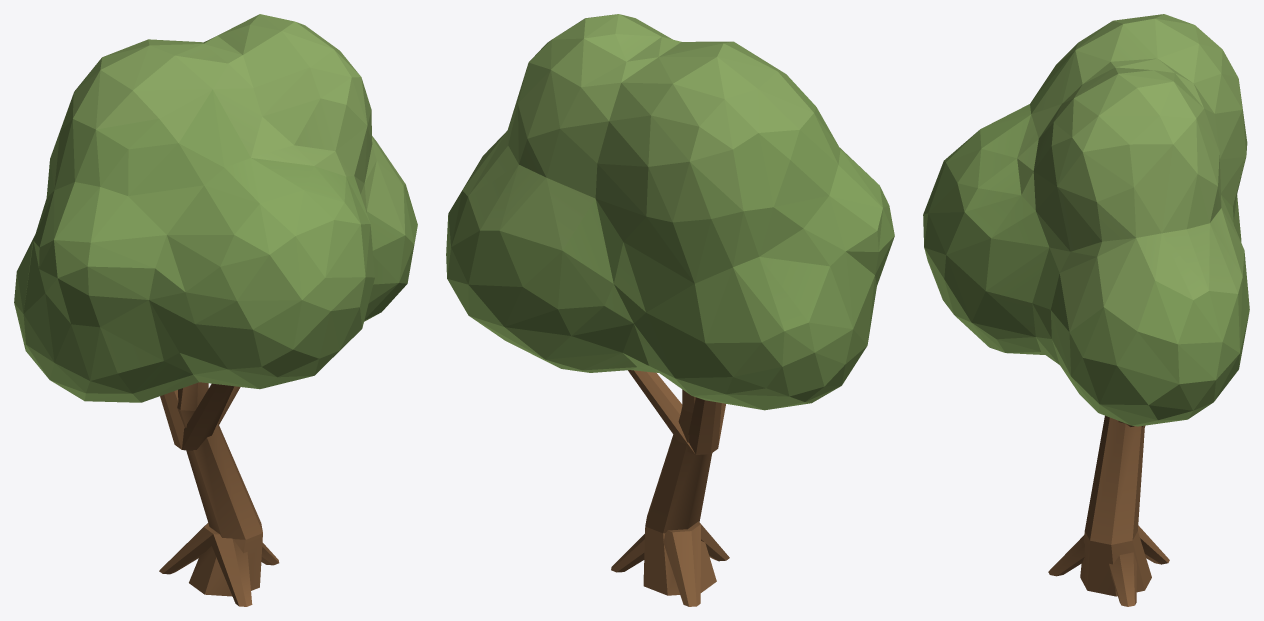
Rendered from grove-sculpt-0.glb.
The picture shows the model from 3 angles, left to right: view 1: azimuth 30°, elevation 25°; view 2: azimuth 150°, elevation 25°; view 3: azimuth 270°, elevation 25°; orthographic projection. The views are drawn at different scales.
Visible parts, largest first — view 1: Icosphere, Branch, Branch.006, Branch.003, Branch.005, Branch.002; view 2: Icosphere, Branch, Branch.005, Branch.001, Branch.002, Branch.004; view 3: Icosphere, Branch, Branch.004, Branch.006, Branch.005.
Boxes of the visible parts, x1=… form: Icosphere: x1=14, y1=14, x2=417, y2=402; Branch: x1=177, y1=382, x2=262, y2=596; Branch.006: x1=210, y1=534, x2=252, y2=606; Branch.003: x1=182, y1=383, x2=234, y2=450; Branch.005: x1=159, y1=523, x2=213, y2=574; Branch.002: x1=160, y1=390, x2=184, y2=449; Icosphere: x1=446, y1=14, x2=894, y2=410; Branch: x1=643, y1=389, x2=716, y2=595; Branch.005: x1=663, y1=524, x2=700, y2=606; Branch.001: x1=628, y1=370, x2=695, y2=454; Branch.002: x1=688, y1=397, x2=721, y2=454; Branch.004: x1=611, y1=521, x2=700, y2=572; Icosphere: x1=923, y1=14, x2=1249, y2=426; Branch: x1=1080, y1=416, x2=1151, y2=596; Branch.004: x1=1109, y1=552, x2=1136, y2=606; Branch.006: x1=1048, y1=535, x2=1084, y2=576; Branch.005: x1=1138, y1=525, x2=1169, y2=564.
Size of the model in its own units: 1.38 by 1.84 by 1.02.
